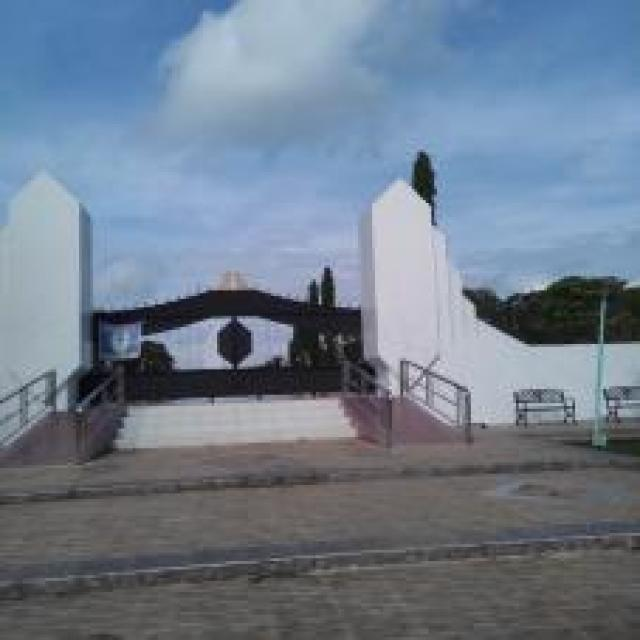upstair: (120, 398, 357, 455)
